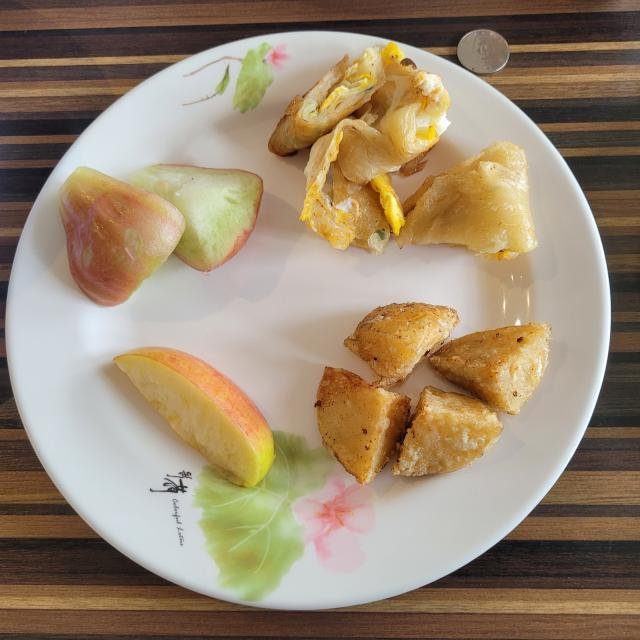apple -sliced-: (114, 348, 275, 488)
coin: (316, 302, 551, 484), (458, 29, 510, 74), (441, 428, 442, 430)
fried potato: (315, 302, 551, 484)
